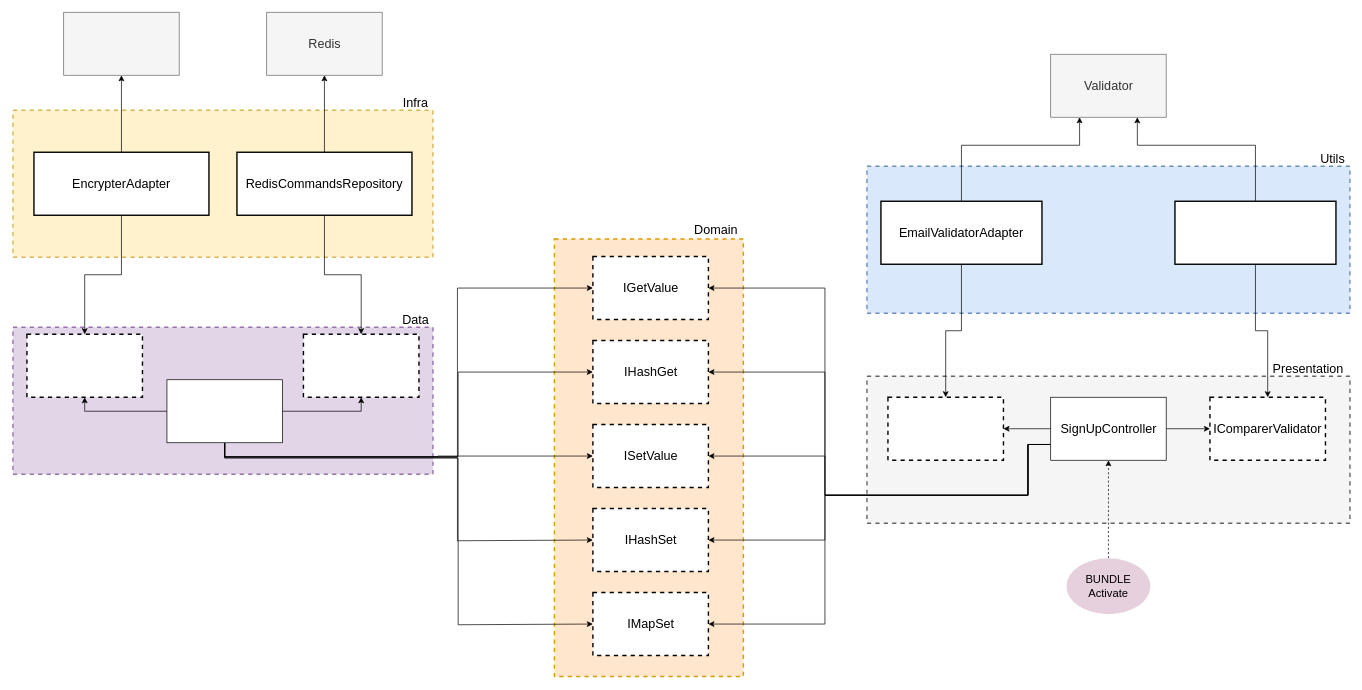
The diagram is 1362 pixels wide and 690 high, and some of its shapes have lost their labels. Each missing label, with the centre of its shape:
"CommandManager" goes at [224,411].
"ComparerValidatorAdapter" goes at [1255,232].
"Encrypter" goes at [121,43].
"ICommands" goes at [360,365].
"IEmailValidator" goes at [945,428].
"IEncrypter" goes at [84,365].
